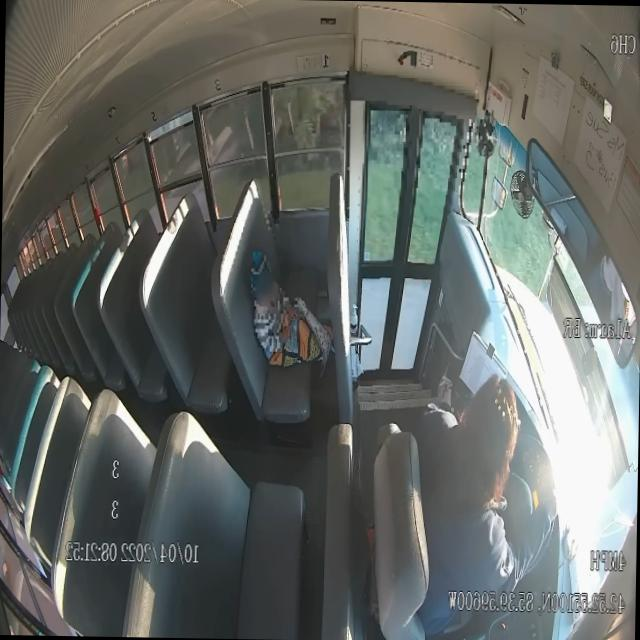bus-door: (360, 105, 456, 372)
